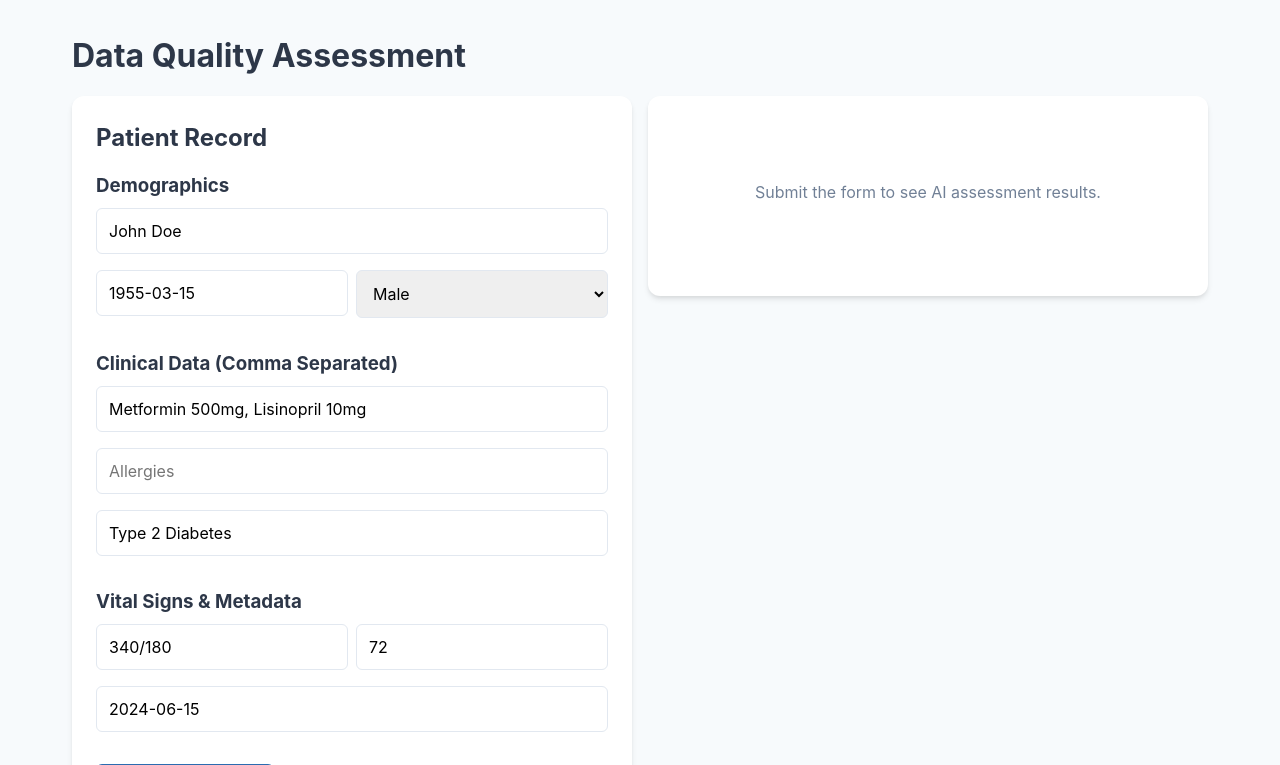
Scenario: Input Validation Logic › DataQuality Form › rejects missing demographics (name)
# Clear name
Clear the 1st field with placeholder "Name" at (352,231), box [96,208,608,254]
(page scrolled)
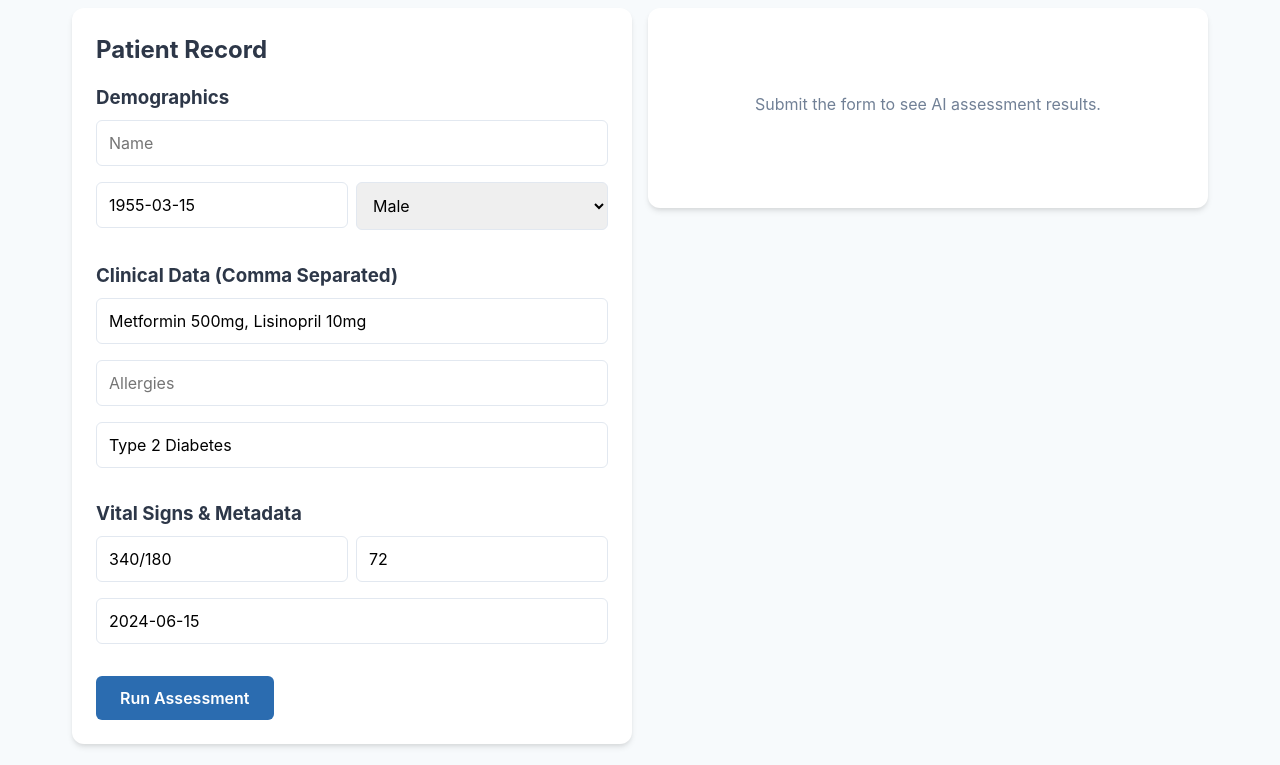
Click the button "Run Assessment" at (185,698), box [96,676,274,720]
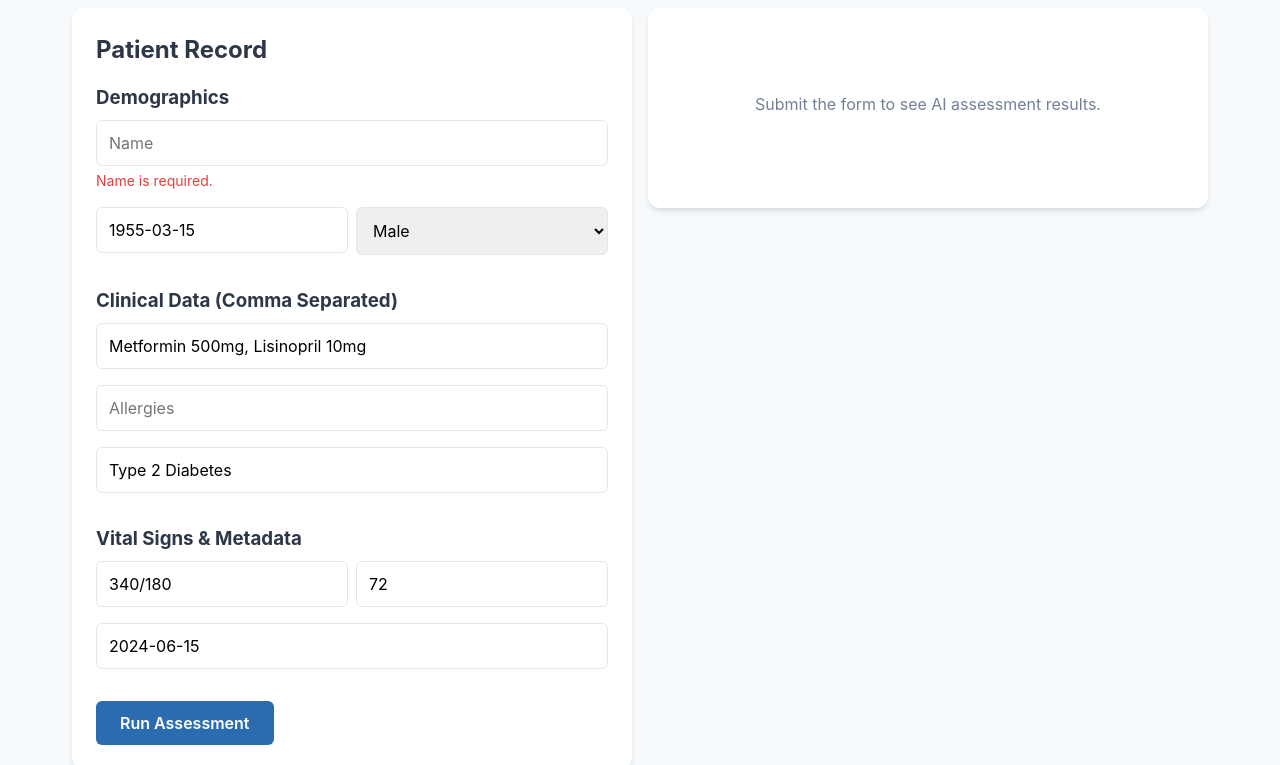
Check: the text "Name is required." is shown, box [96,172,213,189]
